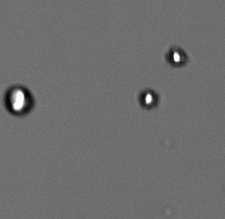Living Cell: (4, 85, 34, 116), (138, 88, 158, 108), (167, 47, 187, 66)
